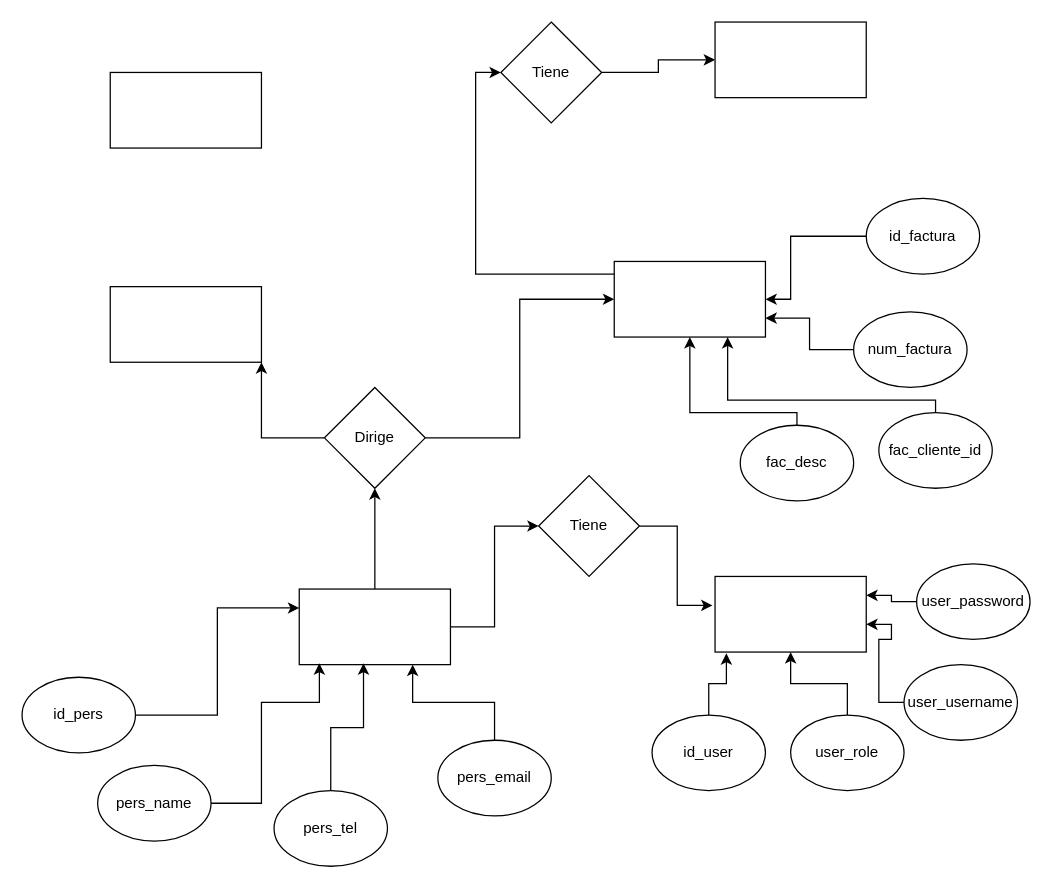
The diagram is 1052 pixels wide and 888 high, and some of its shapes have lost their labels. Each missing label, with the box of its shape:
Cliente: (109, 71, 261, 148)
Facturas: (613, 260, 765, 337)
Personal: (298, 588, 450, 665)
Productos: (109, 285, 261, 362)
Tienda: (714, 21, 866, 98)
Usuarios: (714, 575, 866, 652)
